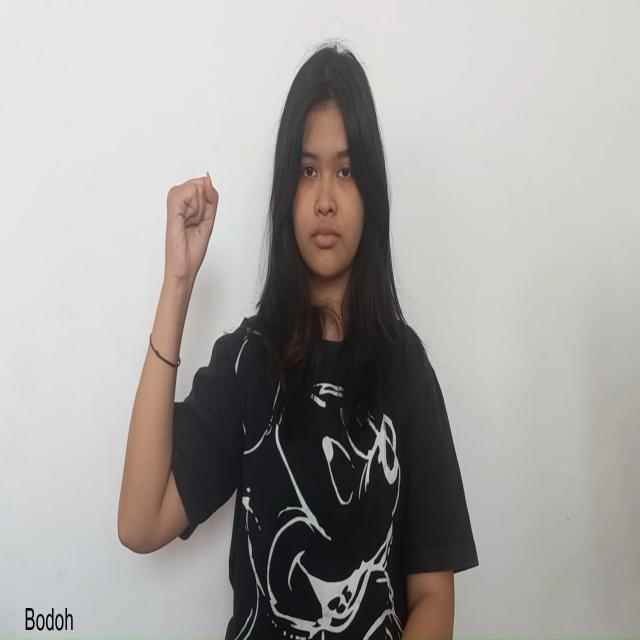Bodoh -BISINDO-: (159, 164, 222, 294)
